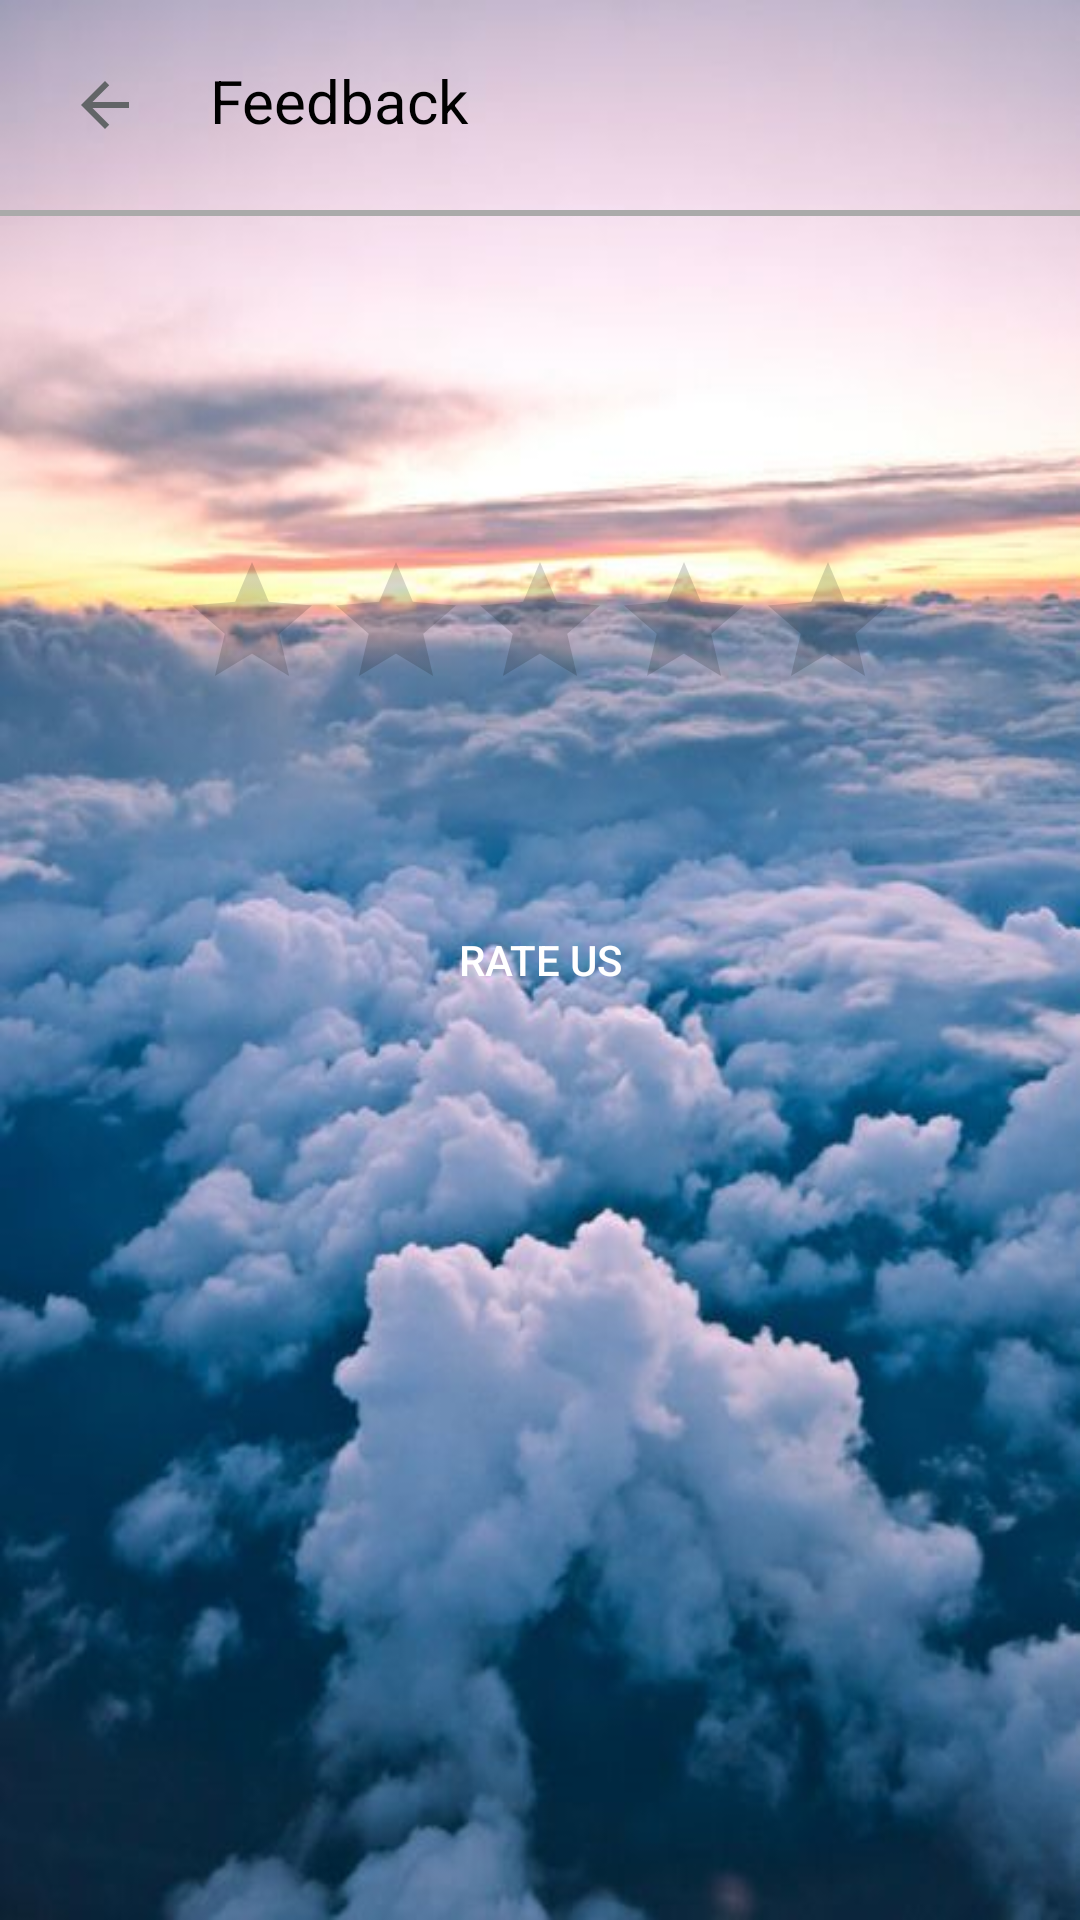

Screen size 1080x1920. Icon name, then its center in pixels as point (x, y):
arrow back: point (105, 105)
